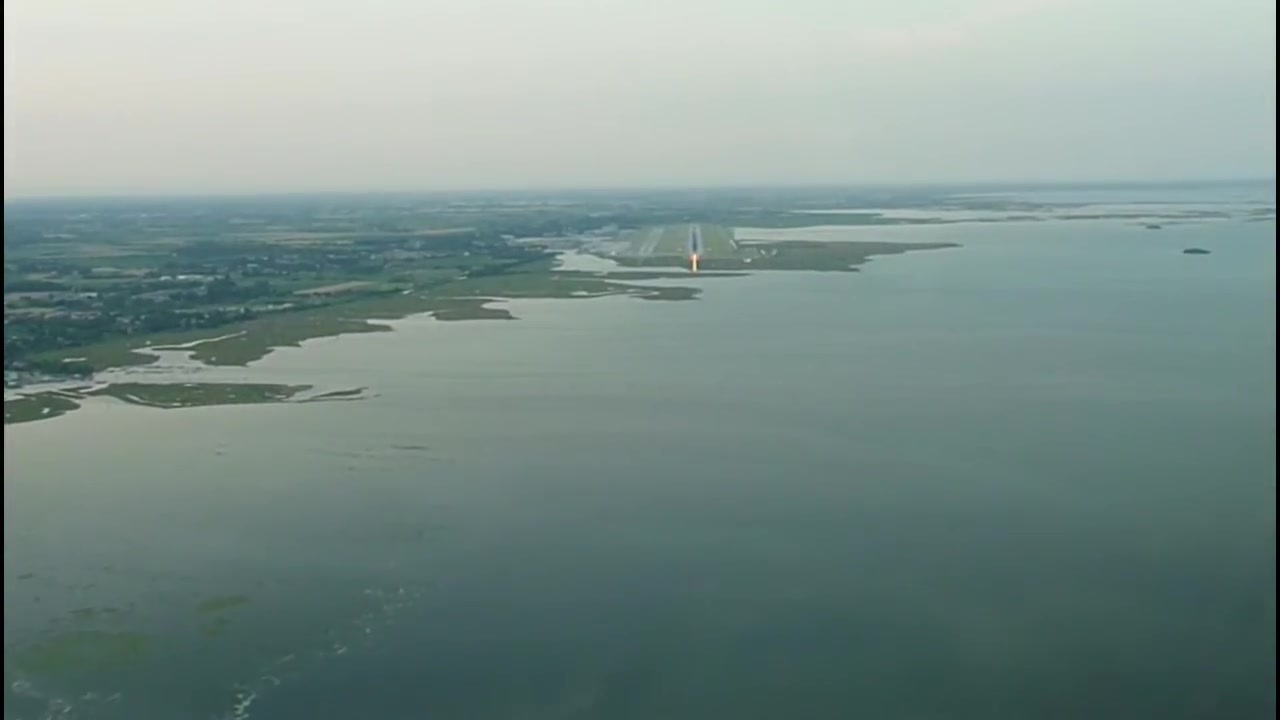runway: (634, 226, 664, 258), (684, 220, 705, 255)
